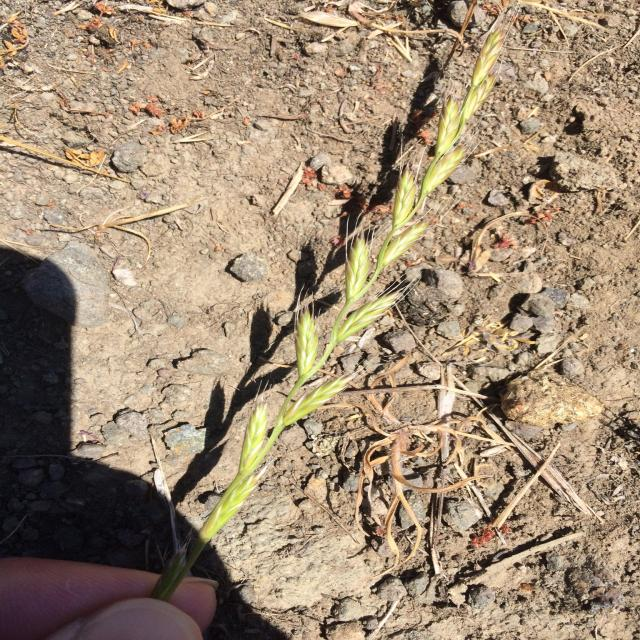Lolium: (147, 10, 520, 602)
